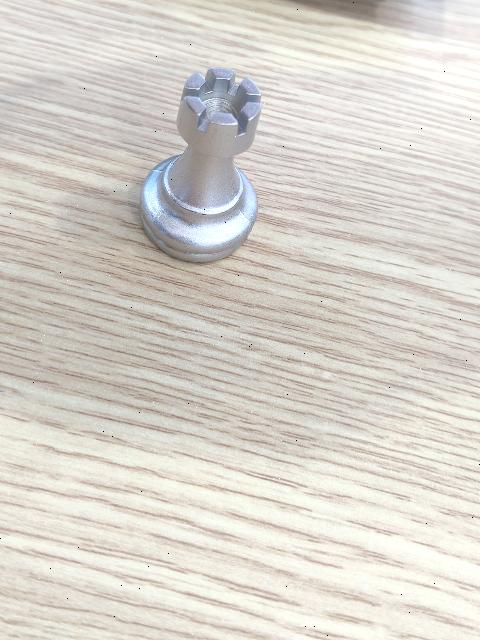white_rook: (137, 64, 268, 262)
